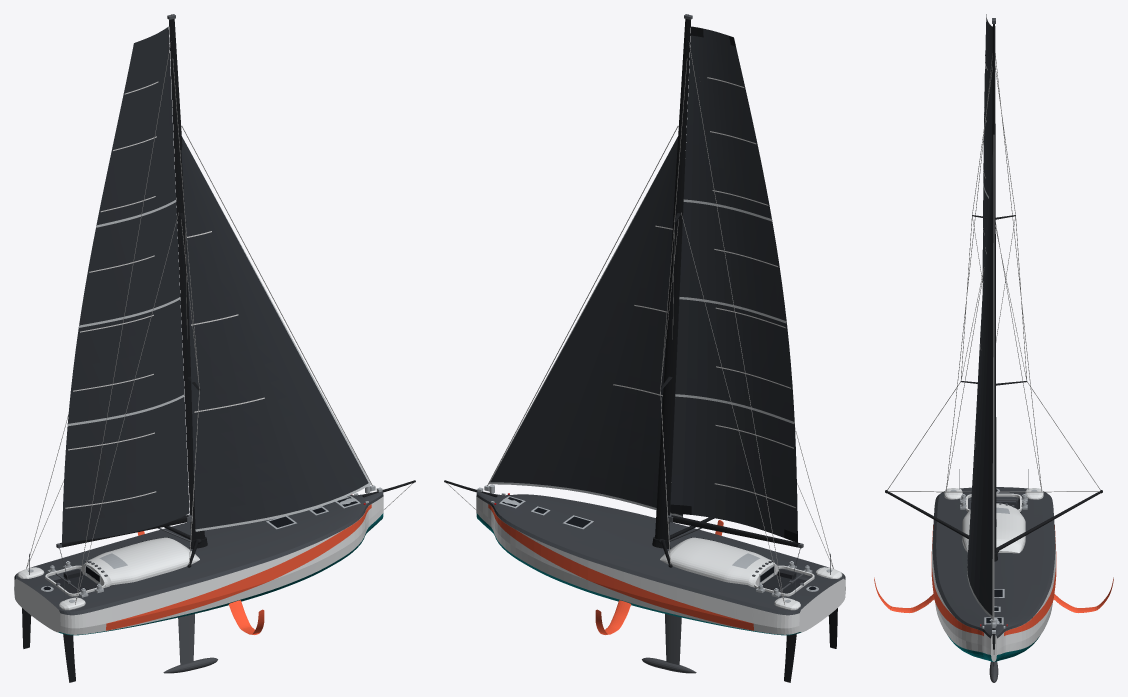
Rendered from imoca60_lowpoly.obj.
3 views of the same model, side by side, from view 1: azimuth 30°, elevation 25°; view 2: azimuth 150°, elevation 25°; view 3: azimuth 270°, elevation 25° (orthographic). The views are drawn at different scales.
Visible parts, largest first — view 1: mainsail, jib_J2, deck, hull, mast, coachroof, livery_swoosh, rigging, jib_J2_bands, mainsail_bands, mainsail_battens, bottom (+2 smaller); view 2: mainsail, jib_J2, deck, hull, mast, coachroof, livery_swoosh, rigging, mainsail_bands, jib_J2_bands, mainsail_battens, boom (+3 smaller); view 3: deck, jib_J2, rigging, hull, mainsail, mast, coachroof, livery_swoosh, outriggers, jib_J2_bands, bottom, stern_blocks.
Boxes of the visible parts, left/top/right/bottom form: mainsail: left=62, top=27, right=189, bottom=542; jib_J2: left=181, top=136, right=368, bottom=529; deck: left=14, top=491, right=383, bottom=615; hull: left=14, top=496, right=383, bottom=634; mast: left=169, top=19, right=204, bottom=540; coachroof: left=81, top=537, right=199, bottom=587; livery_swoosh: left=106, top=504, right=371, bottom=630; rigging: left=26, top=41, right=413, bottom=604; jib_J2_bands: left=188, top=148, right=371, bottom=531; mainsail_bands: left=67, top=200, right=184, bottom=426; mainsail_battens: left=65, top=81, right=158, bottom=508; bottom: left=58, top=513, right=383, bottom=635; mainsail: left=670, top=26, right=797, bottom=542; jib_J2: left=490, top=136, right=682, bottom=517; deck: left=476, top=491, right=845, bottom=615; hull: left=476, top=496, right=845, bottom=634; mast: left=655, top=19, right=690, bottom=540; coachroof: left=660, top=537, right=778, bottom=587; livery_swoosh: left=488, top=504, right=753, bottom=630; rigging: left=446, top=41, right=833, bottom=604; mainsail_bands: left=675, top=199, right=794, bottom=424; jib_J2_bands: left=489, top=148, right=682, bottom=517; mainsail_battens: left=707, top=77, right=795, bottom=507; boom: left=671, top=515, right=800, bottom=547; deck: left=932, top=487, right=1055, bottom=638; jib_J2: left=967, top=149, right=993, bottom=615; rigging: left=887, top=53, right=1100, bottom=654; hull: left=932, top=530, right=1055, bottom=661; mainsail: left=982, top=15, right=992, bottom=288; mast: left=992, top=24, right=996, bottom=553; coachroof: left=962, top=503, right=1025, bottom=553; livery_swoosh: left=931, top=525, right=1056, bottom=635; outriggers: left=885, top=490, right=1102, bottom=552; jib_J2_bands: left=967, top=243, right=993, bottom=619; bottom: left=948, top=636, right=1039, bottom=661; stern_blocks: left=944, top=488, right=1043, bottom=499.
Bounding box in the file's own units: 20.06 × 33.49 × 11.26.
